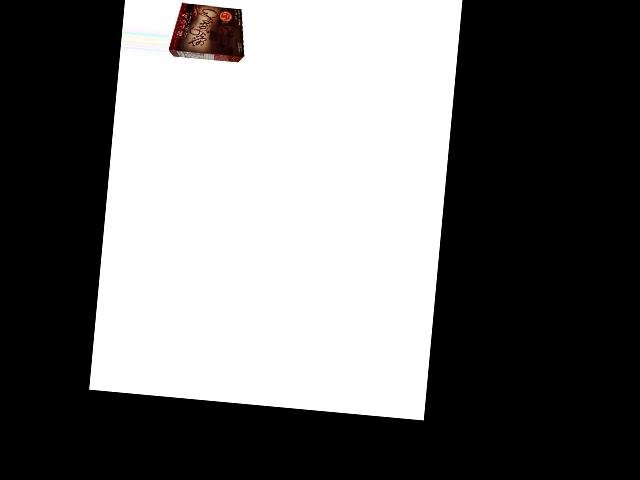chocolate: (170, 0, 248, 62)
